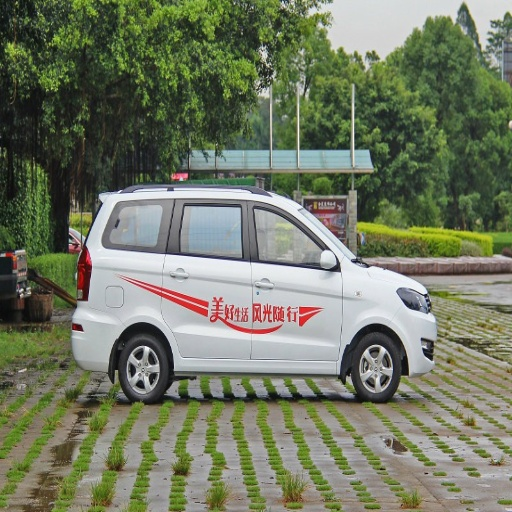back_bumper: (71, 309, 117, 366)
back_right_door: (158, 198, 250, 359)
front_right_door: (251, 198, 344, 364)
